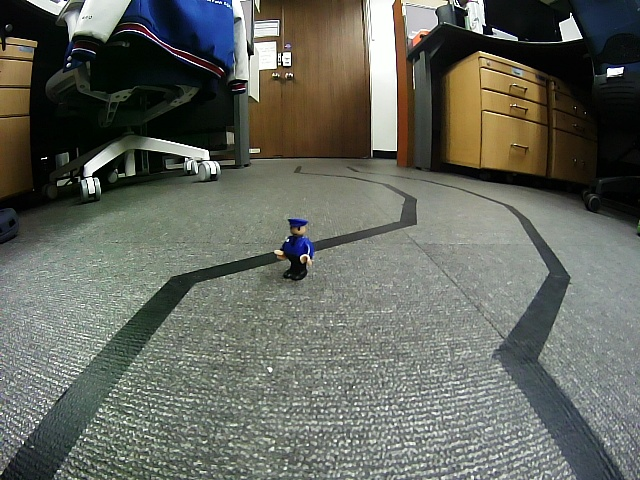person: (274, 217, 314, 282)
